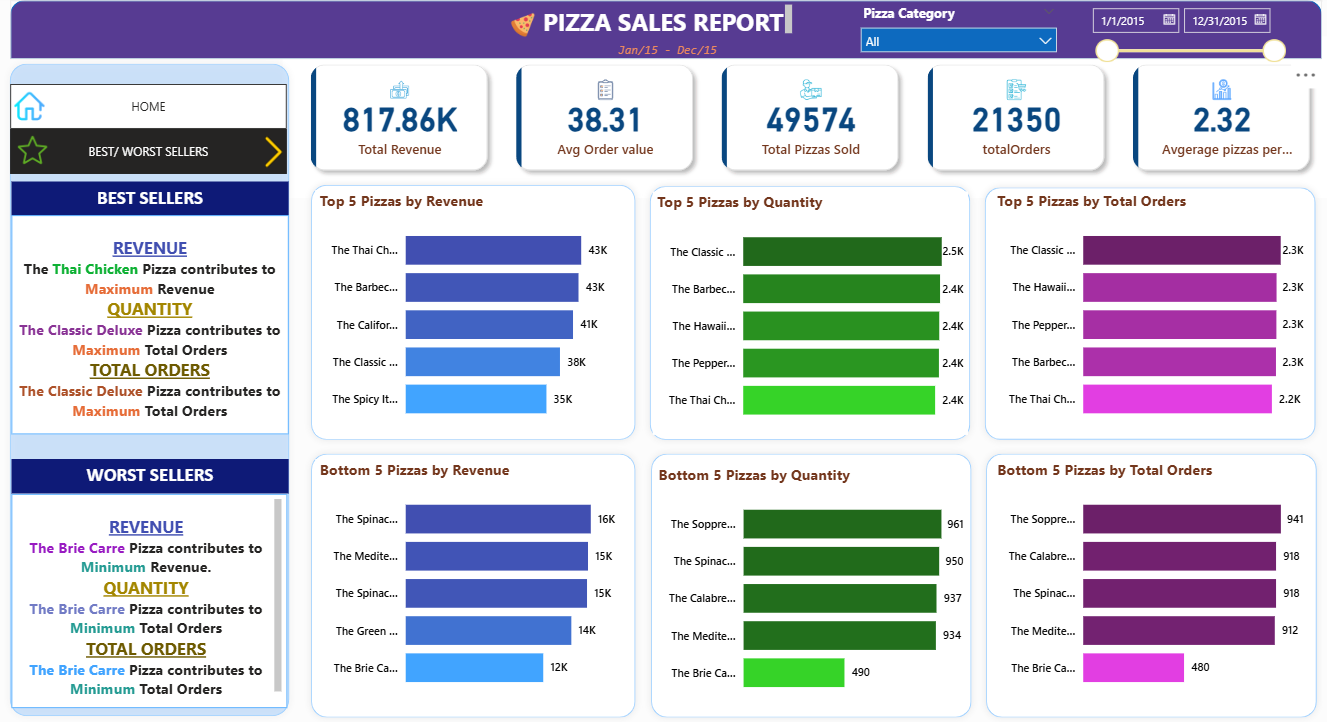

The dashboard page shown, as its layout file describes it:
{"tool":"powerbi","page":{"name":"BEST/ WORST SELLERS","canvas":[1500,820],"ordinal":1},"visuals":[{"type":"cardVisual","fields":{"Data":["pizza_sales.Total Revenue","pizza_sales.Avg Order value","pizza_sales.Total Pizzas Sold","pizza_sales.totalOrders","pizza_sales.Avgerage pizzas per order"]},"box":[321.4,41.4,1178.6,180],"z":0},{"type":"shape","box":[10,64.3,327.1,742.9],"z":1000},{"type":"shape","box":[18.4,2,1461.2,65.3],"z":2000},{"type":"textbox","box":[605,1.7,290,43.3],"z":3000},{"type":"textbox","box":[683.3,41.7,133.3,35],"z":4000},{"type":"image","box":[566.2,15,45,27.5],"z":5000},{"type":"shape","box":[345.7,198.6,377.1,300],"z":6000},{"type":"textbox","box":[20,512.9,308.6,38.6],"z":7000},{"type":"textbox","box":[20,551.4,307.1,238.6],"z":8000},{"type":"slicer","fields":{"Values":["pizza_sales.pizza_category"]},"box":[955.7,0,238.6,64.3],"z":9000},{"type":"slicer","fields":{"Values":["pizza_sales.order_date"]},"box":[1211.4,0,235.7,77.1],"z":10000},{"type":"shape","box":[722.9,200,372.9,298.6],"z":11000},{"type":"shape","box":[1095.7,201.4,384.3,297.1],"z":12000},{"type":"shape","box":[345.7,498.6,377.1,310],"z":13000},{"type":"shape","box":[724.3,498.6,372.9,310],"z":14000},{"type":"shape","box":[1097.1,498.6,384.3,310],"z":15000},{"type":"barChart","title":"Top 5 Pizzas by Revenue","fields":{"Category":["pizza_sales.pizza_name"],"Y":["pizza_sales.Total Revenue"]},"box":[358.6,212.9,351.4,271.4],"z":16000},{"type":"barChart","title":"Bottom 5 Pizzas by Revenue","fields":{"Category":["pizza_sales.pizza_name"],"Y":["pizza_sales.Total Revenue"]},"box":[358.6,512.9,351.4,271.4],"z":17000},{"type":"barChart","title":"Top 5 Pizzas by Quantity","fields":{"Category":["pizza_sales.pizza_name"],"Y":["pizza_sales.Total Pizzas Sold"]},"box":[734.3,214.3,351.4,271.4],"z":18000},{"type":"barChart","title":"Bottom 5 Pizzas by Quantity","fields":{"Category":["pizza_sales.pizza_name"],"Y":["pizza_sales.Total Pizzas Sold"]},"box":[735.7,518.6,350,271.4],"z":19000},{"type":"barChart","title":"Top 5 Pizzas by Total Orders","fields":{"Category":["pizza_sales.pizza_name"],"Y":["pizza_sales.totalOrders"]},"box":[1112.9,212.9,351.4,271.4],"z":20000},{"type":"barChart","title":"Bottom 5 Pizzas by Total Orders","fields":{"Category":["pizza_sales.pizza_name"],"Y":["pizza_sales.totalOrders"]},"box":[1112.9,512.9,351.4,271.4],"z":21000},{"type":"textbox","box":[20,202.9,308.6,38.6],"z":22000},{"type":"textbox","box":[20,241.4,308.6,244.3],"z":23000},{"type":"pageNavigator","box":[18.6,94.3,308.6,50],"z":24000},{"type":"pageNavigator","box":[18.6,144.3,308.6,50],"z":25000},{"type":"image","box":[285.7,152.9,51.4,34.3],"z":26000},{"type":"image","box":[20,102.9,40,32.9],"z":26001},{"type":"image","box":[10,151.4,65.7,32.9],"z":26002}]}

Visuals, with their boxes in screenshot pixels (x1, y1, x2, y2), scaled from the page's 1500x820 canvas onto the 1327x722 screenshot:
cardVisual - pizza_sales.Total Revenue x pizza_sales.Avg Order value: pyautogui.locateOnScreen(284, 36, 1326, 195)
shape: pyautogui.locateOnScreen(9, 57, 298, 711)
shape: pyautogui.locateOnScreen(16, 2, 1309, 59)
textbox: pyautogui.locateOnScreen(535, 1, 792, 40)
textbox: pyautogui.locateOnScreen(604, 37, 722, 68)
image: pyautogui.locateOnScreen(501, 13, 541, 37)
shape: pyautogui.locateOnScreen(306, 175, 639, 439)
textbox: pyautogui.locateOnScreen(18, 452, 291, 486)
textbox: pyautogui.locateOnScreen(18, 486, 289, 696)
slicer - pizza_sales.pizza_category: pyautogui.locateOnScreen(845, 0, 1057, 57)
slicer - pizza_sales.order_date: pyautogui.locateOnScreen(1072, 0, 1280, 68)
shape: pyautogui.locateOnScreen(640, 176, 969, 439)
shape: pyautogui.locateOnScreen(969, 177, 1309, 439)
shape: pyautogui.locateOnScreen(306, 439, 639, 712)
shape: pyautogui.locateOnScreen(641, 439, 971, 712)
shape: pyautogui.locateOnScreen(971, 439, 1311, 712)
"Top 5 Pizzas by Revenue" barChart: pyautogui.locateOnScreen(317, 187, 628, 426)
"Bottom 5 Pizzas by Revenue" barChart: pyautogui.locateOnScreen(317, 452, 628, 691)
"Top 5 Pizzas by Quantity" barChart: pyautogui.locateOnScreen(650, 189, 960, 428)
"Bottom 5 Pizzas by Quantity" barChart: pyautogui.locateOnScreen(651, 457, 960, 696)
"Top 5 Pizzas by Total Orders" barChart: pyautogui.locateOnScreen(985, 187, 1295, 426)
"Bottom 5 Pizzas by Total Orders" barChart: pyautogui.locateOnScreen(985, 452, 1295, 691)
textbox: pyautogui.locateOnScreen(18, 179, 291, 213)
textbox: pyautogui.locateOnScreen(18, 213, 291, 428)
pageNavigator: pyautogui.locateOnScreen(16, 83, 289, 127)
pageNavigator: pyautogui.locateOnScreen(16, 127, 289, 171)
image: pyautogui.locateOnScreen(253, 135, 298, 165)
image: pyautogui.locateOnScreen(18, 91, 53, 120)
image: pyautogui.locateOnScreen(9, 133, 67, 162)
